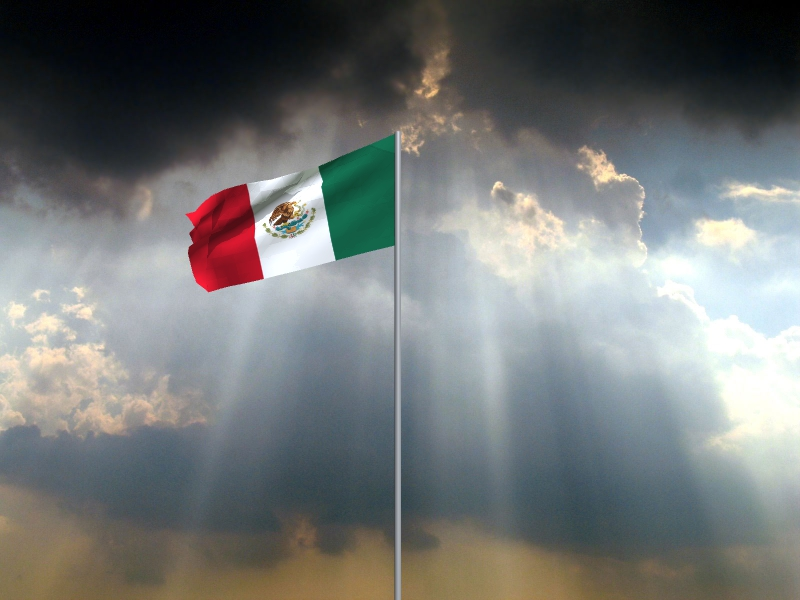mx: (184, 134, 395, 294)
